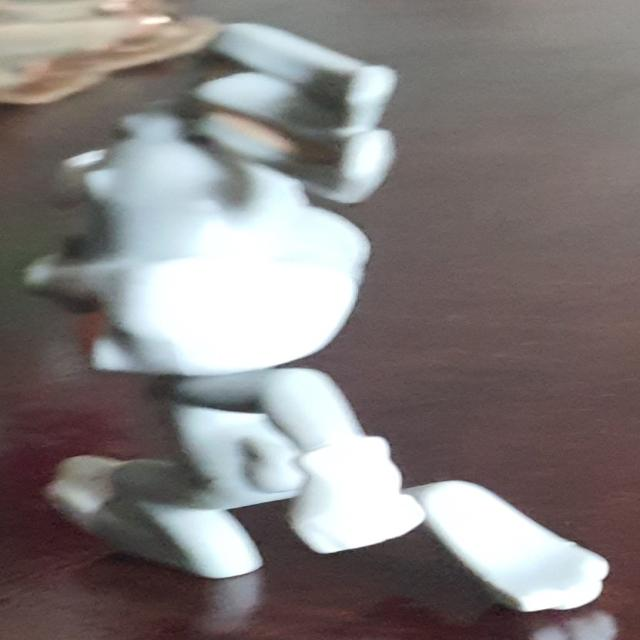Rabbit: (23, 21, 612, 614)
